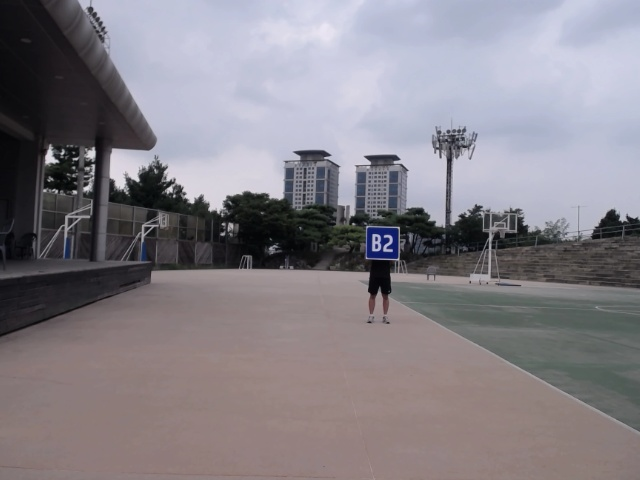delivery_b2: (365, 224, 401, 262)
